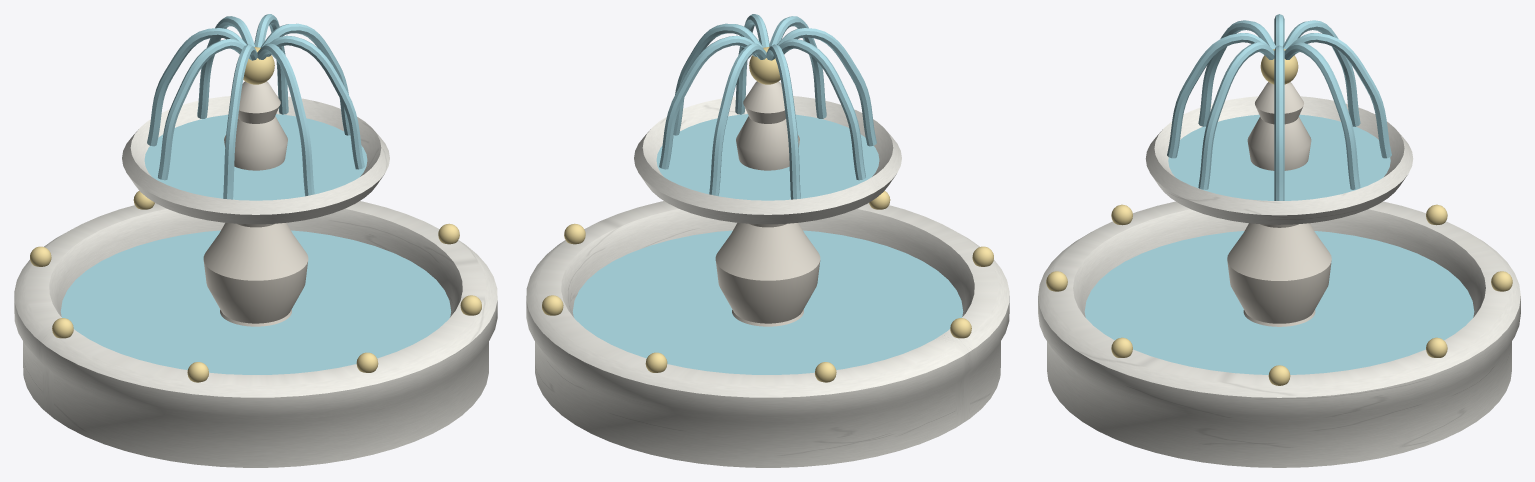
File: th35_brunnen_zier.glb
3 renders of one model, left to right at view 1: azimuth 30°, elevation 25°; view 2: azimuth 150°, elevation 25°; view 3: azimuth 270°, elevation 25°, orthographic.
Visible parts, largest first — view 1: Becken, Circle, Circle.001, Schale, Schaft, Aufsatz, Strahl.004, Strahl.006, Strahl.007, Strahl.003, Strahl.005, Strahl (+3 smaller); view 2: Becken, Circle, Circle.001, Schale, Schaft, Aufsatz, Strahl.004, Strahl.002, Strahl.001, Strahl.005, Strahl.003, Strahl (+3 smaller); view 3: Becken, Circle, Circle.001, Schale, Schaft, Aufsatz, Strahl.001, Strahl.007, Strahl.002, Strahl.006, Strahl, Strahl.003 (+2 smaller).
Boxes of the visible parts, box(x1,y1,x2,y2) form: Becken: box(14, 201, 497, 467); Circle: box(60, 230, 451, 374); Circle.001: box(144, 114, 367, 200); Schale: box(122, 95, 389, 224); Schaft: box(203, 223, 308, 326); Aufsatz: box(224, 81, 287, 170); Strahl.004: box(158, 39, 244, 180); Strahl.006: box(257, 43, 314, 196); Strahl.007: box(267, 35, 364, 169); Strahl.003: box(147, 28, 246, 146); Strahl.005: box(223, 44, 257, 199); Strahl: box(260, 23, 350, 135); Becken: box(526, 201, 1009, 467); Circle: box(572, 230, 963, 374); Circle.001: box(656, 114, 879, 200); Schale: box(634, 95, 901, 224); Schaft: box(715, 223, 820, 326); Aufsatz: box(736, 81, 799, 170); Strahl.004: box(779, 39, 865, 180); Strahl.002: box(709, 43, 766, 196); Strahl.001: box(659, 35, 756, 169); Strahl.005: box(777, 28, 876, 146); Strahl.003: box(766, 44, 800, 199); Strahl: box(673, 23, 763, 135); Becken: box(1038, 201, 1520, 467); Circle: box(1084, 231, 1474, 374); Circle.001: box(1168, 114, 1390, 200); Schale: box(1145, 96, 1413, 224); Schaft: box(1227, 223, 1331, 326); Aufsatz: box(1247, 82, 1311, 170); Strahl.001: box(1284, 42, 1360, 189); Strahl.007: box(1198, 42, 1274, 189); Strahl.002: box(1290, 33, 1391, 158); Strahl.006: box(1167, 33, 1268, 158); Strahl: box(1274, 45, 1284, 200); Strahl.003: box(1283, 20, 1360, 126).
Size of the model in its own units: 3.32 by 2.55 by 3.32.
4 materials, 1 textured.
